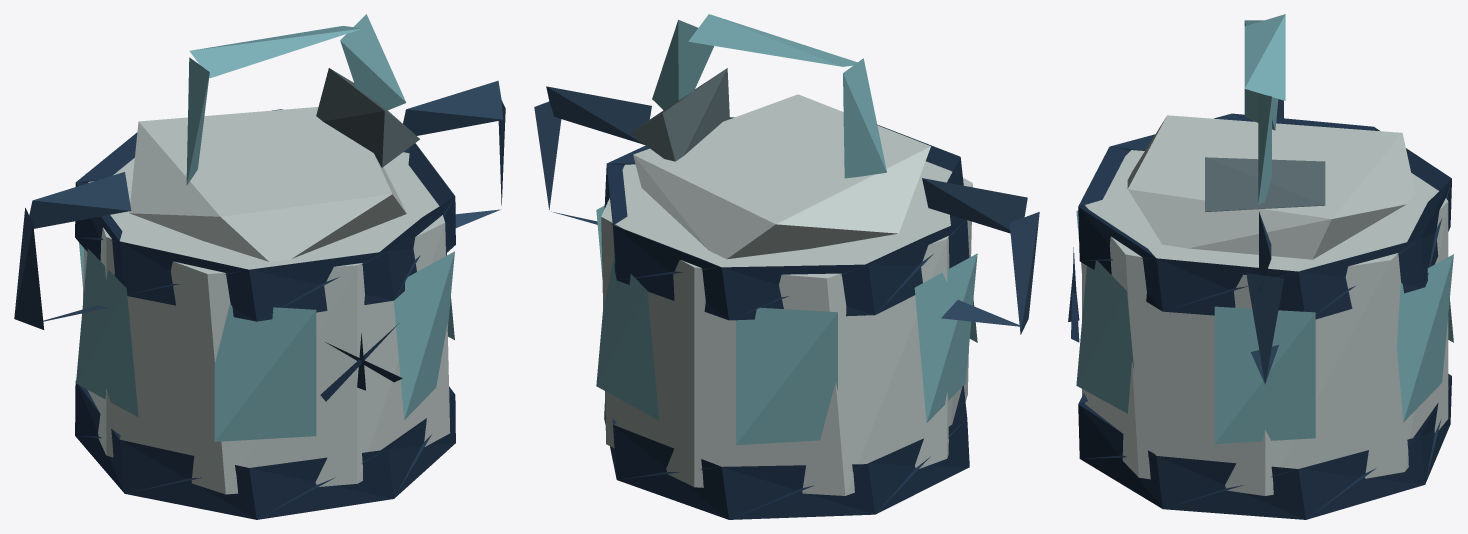
File: FROST_BOMB.shadow.glb
The picture shows the model from 3 angles, left to right: view 1: azimuth 30°, elevation 25°; view 2: azimuth 150°, elevation 25°; view 3: azimuth 270°, elevation 25°; orthographic projection.
Parts seen in each view (by area): view 1: Body_Mesh; view 2: Body_Mesh; view 3: Body_Mesh.
Boxes of the visible parts, box(x1,y1,x2,y2) form: Body_Mesh: box(14, 14, 505, 519); Body_Mesh: box(534, 14, 1039, 519); Body_Mesh: box(1068, 14, 1453, 519).
Size of the model in its own units: 0.88 by 0.6914 by 0.6108.
